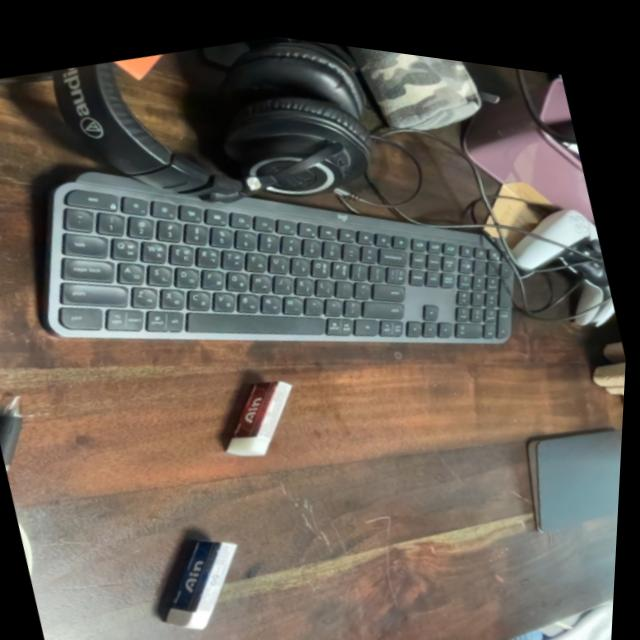blue: (134, 510, 272, 640)
red: (199, 354, 320, 470)
